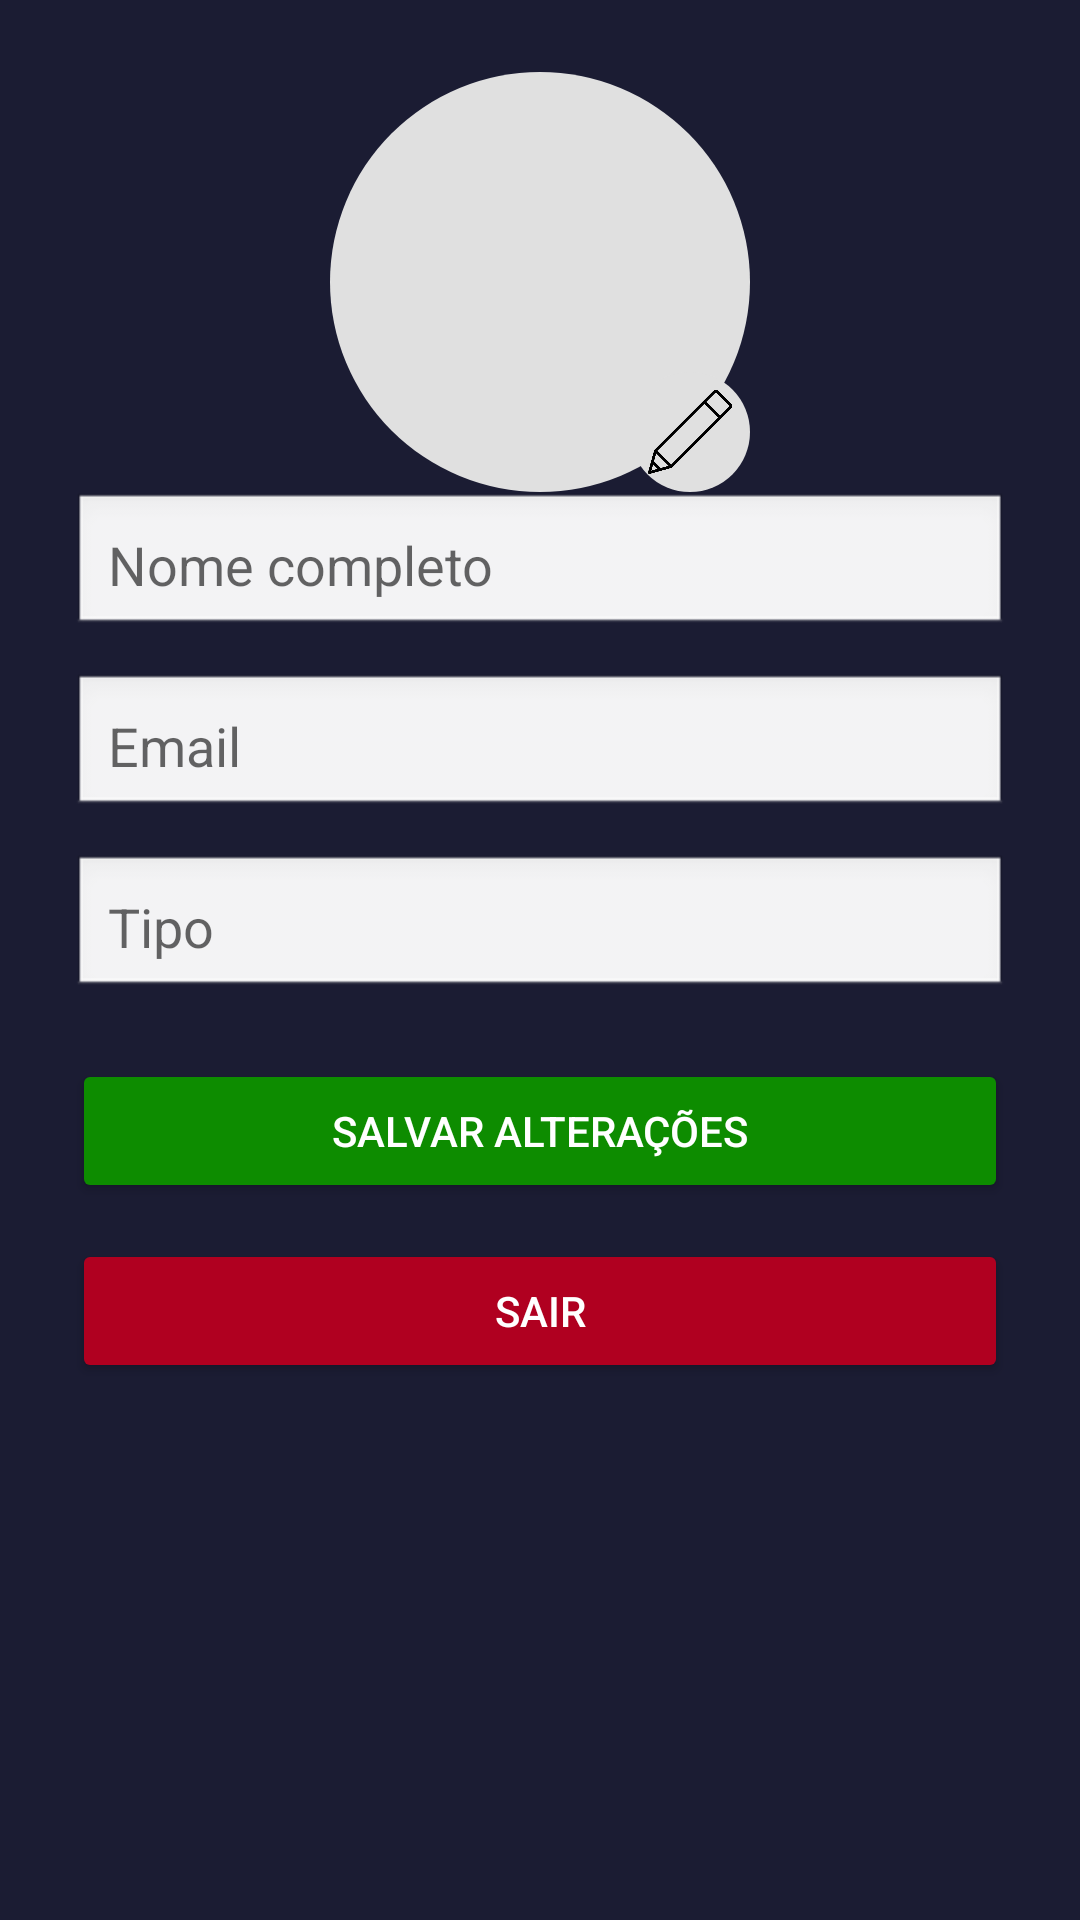

Point at icon controls on the screen. Image size 1080px x 1920px, points as (x,y).
Editar Foto: (690,432)
